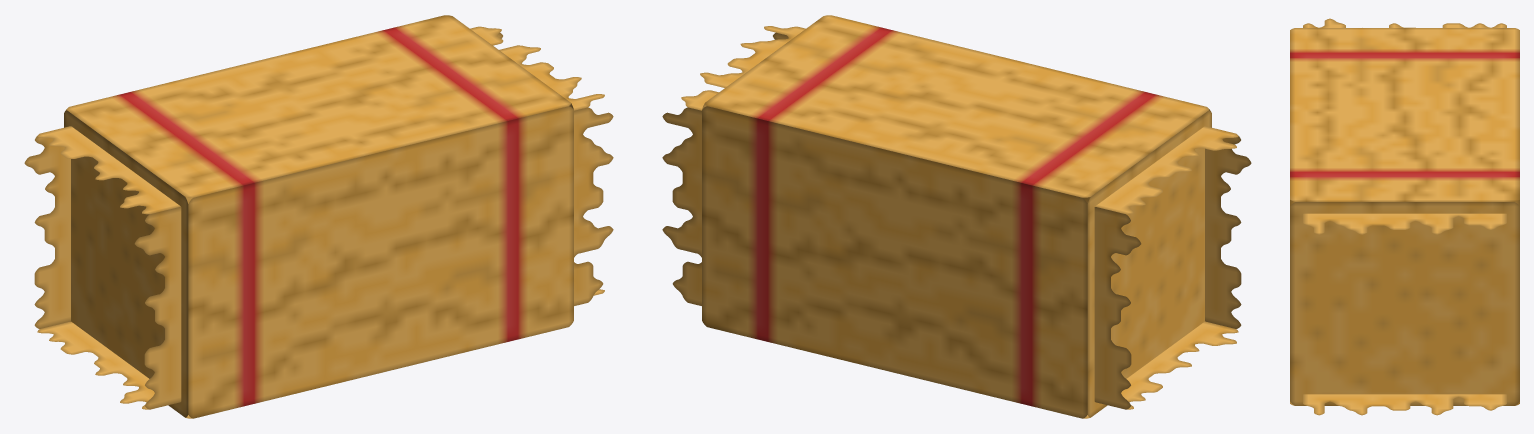
The model's file is hay.fbx.
3 views of the same model, side by side, from view 1: azimuth 30°, elevation 25°; view 2: azimuth 150°, elevation 25°; view 3: azimuth 270°, elevation 25° (orthographic). The views are drawn at different scales.
Parts seen in each view (by area): view 1: cube, cube_1; view 2: cube, cube_1; view 3: cube, cube_1.
Boxes of the visible parts, bbox=[...] form: cube: bbox=[64, 15, 573, 418]; cube_1: bbox=[24, 26, 613, 409]; cube: bbox=[702, 15, 1211, 418]; cube_1: bbox=[662, 26, 1251, 409]; cube: bbox=[1290, 28, 1519, 405]; cube_1: bbox=[1303, 18, 1506, 415].
Size of the model in its own units: 19.22 by 8.12 by 8.28.
Materials: 1 (1 with a texture image).
